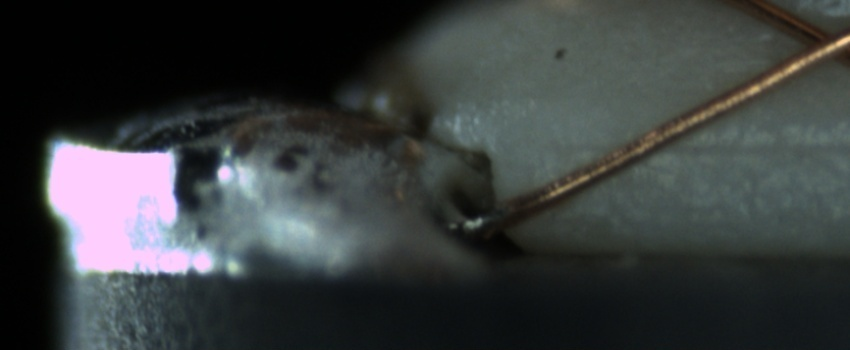CL: (774, 9, 850, 77)
DL: (546, 114, 850, 178)
